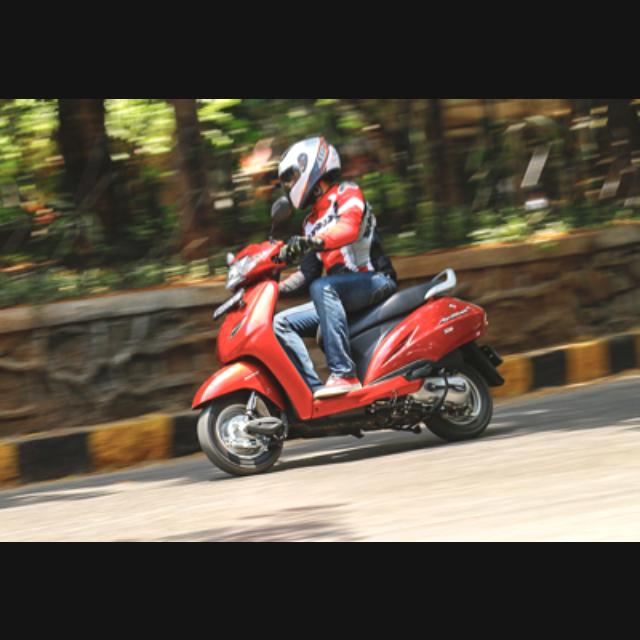With Helmet: (262, 134, 354, 208)
